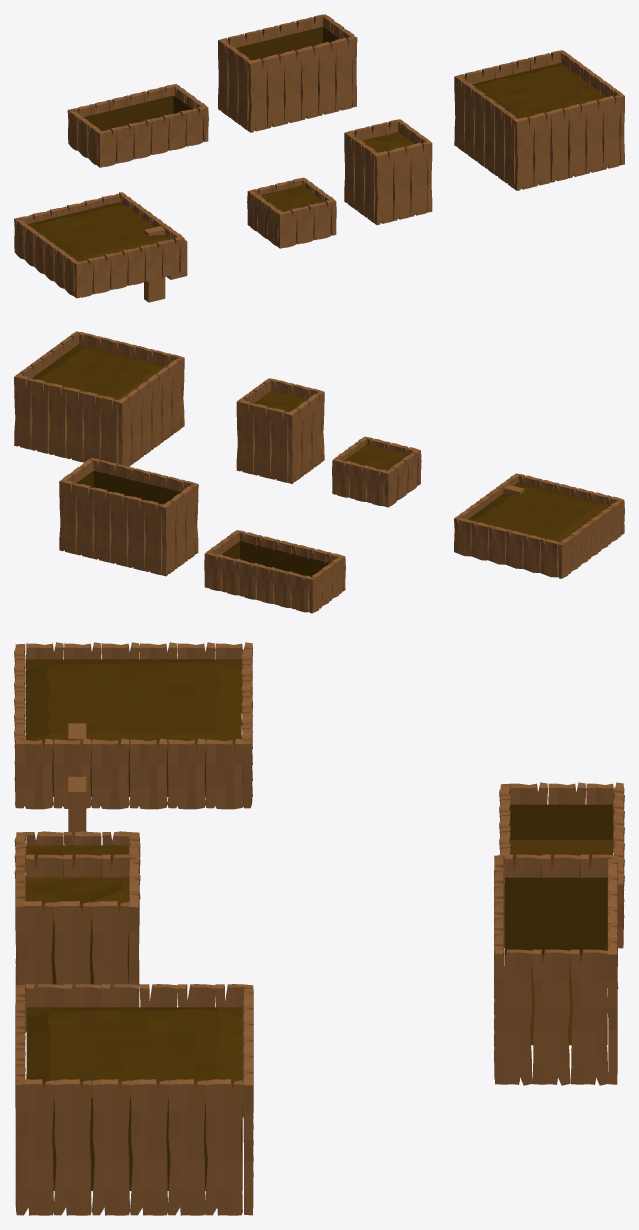
File: plank_planters.glb
3 views of the same model, one above another, from view 1: azimuth 30°, elevation 25°; view 2: azimuth 150°, elevation 25°; view 3: azimuth 270°, elevation 25° (orthographic). The views are drawn at different scales.
Visible parts, largest first — view 1: LargeShortSoil, LargeSoil, LongSoil.001, LongSoil, Plank.014, Plank.002, Plank.038, Plank.015, Plank.017, Plank.013, Plank.016, Plank.037 (+51 smaller); view 2: LargeShortSoil, LargeSoil, LongSoil.001, LongSoil, Plank.028, Plank.030, Plank.029, Plank.050, Plank.032, Plank.051, Plank.008, Plank.044 (+48 smaller); view 3: LargeShortSoil, LargeSoil, LongSoil, LongSoil.001, Plank.020, Plank.021, Plank.026, Plank.019, Plank.027, Plank.025, Plank.054, Plank.053 (+31 smaller).
Boxes of the visible parts, x1,y1,x2,y2 form: LargeShortSoil: [27, 201, 171, 261]; LargeSoil: [472, 63, 606, 118]; LongSoil.001: [84, 95, 192, 130]; LongSoil: [236, 27, 339, 60]; Plank.014: [514, 116, 534, 190]; Plank.002: [374, 150, 394, 225]; Plank.038: [248, 58, 267, 132]; Plank.015: [549, 107, 568, 182]; Plank.017: [567, 103, 586, 178]; Plank.013: [532, 112, 551, 186]; Plank.016: [584, 99, 603, 173]; Plank.037: [265, 53, 284, 128]; LargeShortSoil: [468, 482, 610, 542]; LargeSoil: [32, 344, 166, 399]; LongSoil.001: [222, 541, 329, 577]; LongSoil: [76, 470, 180, 504]; Plank.028: [31, 379, 50, 453]; Plank.030: [48, 383, 67, 457]; Plank.029: [14, 375, 33, 449]; Plank.050: [59, 479, 78, 554]; Plank.032: [66, 387, 85, 462]; Plank.051: [93, 488, 112, 562]; Plank.008: [236, 400, 255, 474]; Plank.044: [110, 492, 129, 566]; LargeShortSoil: [25, 659, 241, 796]; LargeSoil: [26, 1007, 242, 1190]; LongSoil: [504, 877, 607, 1045]; LongSoil.001: [510, 804, 612, 877]; Plank.020: [16, 1079, 54, 1215]; Plank.021: [92, 1079, 130, 1215]; Plank.026: [130, 1079, 168, 1215]; Plank.019: [53, 1079, 91, 1215]; Plank.027: [205, 1079, 243, 1215]; Plank.025: [168, 1079, 205, 1215]; Plank.054: [494, 949, 532, 1085]; Plank.053: [532, 949, 570, 1085].
Size of the model in its own units: 6.64 by 1.21 by 3.38.
